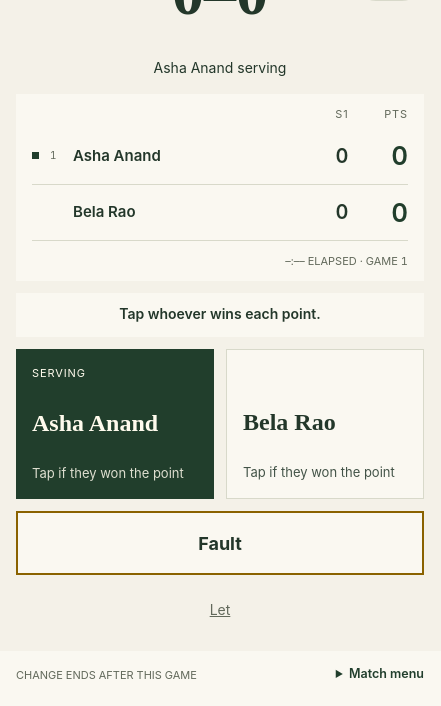
Test: Scorer › shows a point at once and keeps it on the device while saves fail
This screenshot has width=441, height=706.
(page scrolled)
Click the button with aria-label "Point — Asha Anand" at (115, 424), box [16, 349, 214, 499]
(page scrolled)
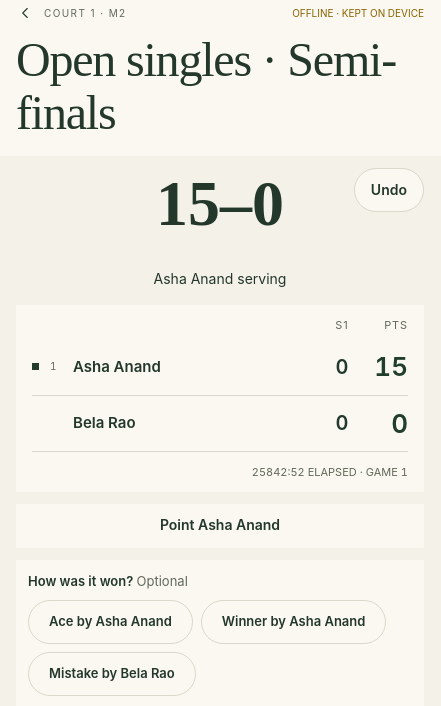
expect the row "1 Asha Anand 0 15" is shown: met, box [32, 339, 408, 395]
expect the message shows "Offline": met, box [292, 6, 424, 18]
